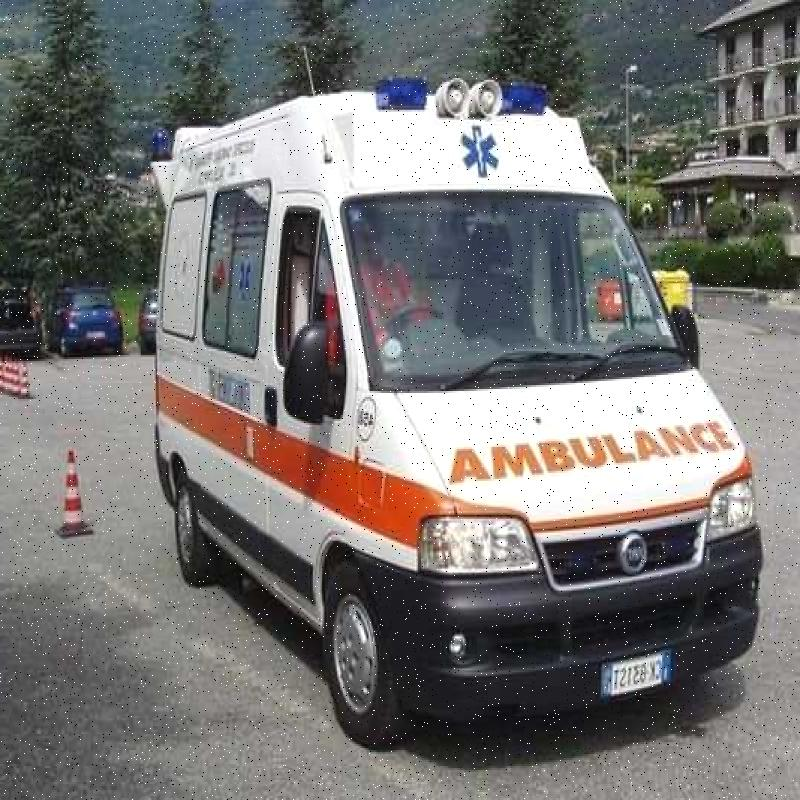AmbulanceSiren: (362, 60, 571, 134)
